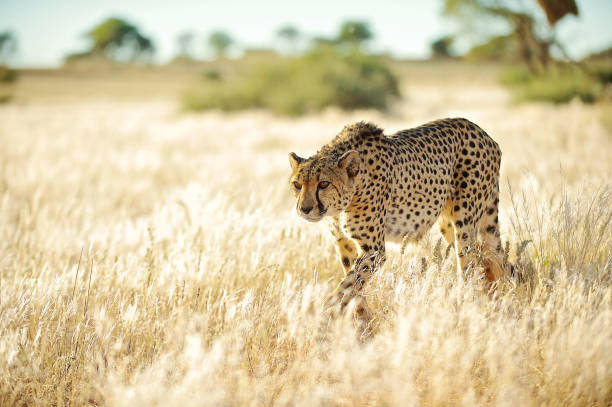cheetah: (272, 145, 359, 230)
